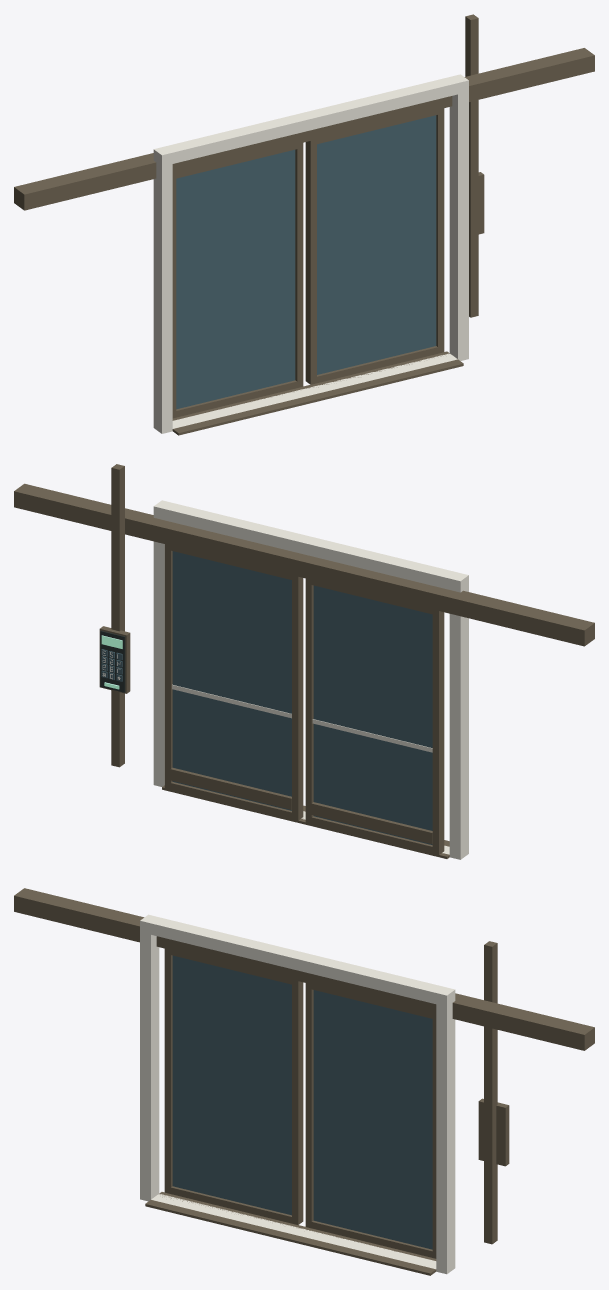
Rendered from module_double_entrance.glb.
3 renders of one model, top to bottom at view 1: azimuth 30°, elevation 25°; view 2: azimuth 150°, elevation 25°; view 3: azimuth 330°, elevation 25°, orthographic.
Visible parts, largest first — view 1: entrance-double-glass-door (×2), entrance-automatic-door-track, entrance-frame-head, entrance-frame-left, entrance-frame-right, entrance-leaf-right (×2), entrance-leaf-left (×2), entrance-threshold, keypad-mounting-mullion, entrance-frame-sill, entrance-leaf-sill (×2), entrance-leaf-head (×2); view 2: entrance-double-glass-door (×2), entrance-automatic-door-track, entrance-leaf-left (×2), entrance-frame-head, entrance-frame-left, entrance-leaf-right (×2), entrance-leaf-bottom-rail (×2), keypad-mounting-mullion, entrance-frame-right, entrance-leaf-sill (×2), entrance-leaf-head (×2), entrance-glass-safety-band (×2) (+4 smaller); view 3: entrance-double-glass-door (×2), entrance-automatic-door-track, entrance-frame-head, entrance-frame-right, entrance-frame-left, entrance-leaf-left (×2), entrance-leaf-right (×2), keypad-mounting-mullion, entrance-threshold, entrance-frame-sill, entrance-leaf-sill (×2), entrance-leaf-head (×2) (+1 smaller).
Part boxes in pixels (x1=…): entrance-double-glass-door (×2): x1=176, y1=115, x2=436, y2=409; entrance-automatic-door-track: x1=14, y1=48, x2=594, y2=210; entrance-frame-head: x1=164, y1=77, x2=457, y2=163; entrance-frame-left: x1=153, y1=146, x2=172, y2=433; entrance-frame-right: x1=449, y1=74, x2=468, y2=360; entrance-leaf-right (×2): x1=295, y1=108, x2=444, y2=387; entrance-leaf-left (×2): x1=172, y1=139, x2=316, y2=418; entrance-threshold: x1=172, y1=351, x2=463, y2=435; keypad-mounting-mullion: x1=465, y1=14, x2=478, y2=317; entrance-frame-sill: x1=172, y1=353, x2=457, y2=428; entrance-leaf-sill (×2): x1=176, y1=346, x2=437, y2=417; entrance-leaf-head (×2): x1=176, y1=110, x2=437, y2=178; entrance-double-glass-door (×2): x1=172, y1=551, x2=432, y2=844; entrance-automatic-door-track: x1=14, y1=483, x2=594, y2=646; entrance-leaf-left (×2): x1=292, y1=575, x2=444, y2=854; entrance-frame-head: x1=164, y1=503, x2=457, y2=589; entrance-frame-left: x1=449, y1=572, x2=468, y2=859; entrance-leaf-right (×2): x1=164, y1=544, x2=313, y2=823; entrance-leaf-bottom-rail (×2): x1=170, y1=767, x2=432, y2=844; keypad-mounting-mullion: x1=111, y1=464, x2=124, y2=767; entrance-frame-right: x1=153, y1=500, x2=171, y2=786; entrance-leaf-sill (×2): x1=171, y1=782, x2=432, y2=853; entrance-leaf-head (×2): x1=171, y1=545, x2=432, y2=614; entrance-glass-safety-band (×2): x1=172, y1=684, x2=432, y2=752; entrance-double-glass-door (×2): x1=172, y1=955, x2=432, y2=1249; entrance-automatic-door-track: x1=14, y1=888, x2=594, y2=1050; entrance-frame-head: x1=151, y1=917, x2=443, y2=1003; entrance-frame-right: x1=436, y1=987, x2=455, y2=1274; entrance-frame-left: x1=140, y1=914, x2=159, y2=1201; entrance-leaf-left (×2): x1=164, y1=948, x2=313, y2=1228; entrance-leaf-right (×2): x1=292, y1=979, x2=436, y2=1258; keypad-mounting-mullion: x1=484, y1=941, x2=497, y2=1244; entrance-threshold: x1=145, y1=1192, x2=436, y2=1275; entrance-frame-sill: x1=151, y1=1194, x2=436, y2=1269; entrance-leaf-sill (×2): x1=171, y1=1186, x2=432, y2=1257; entrance-leaf-head (×2): x1=171, y1=950, x2=432, y2=1018.
Bounding box in the file's own units: 6.32 × 3.4 × 0.6285.
